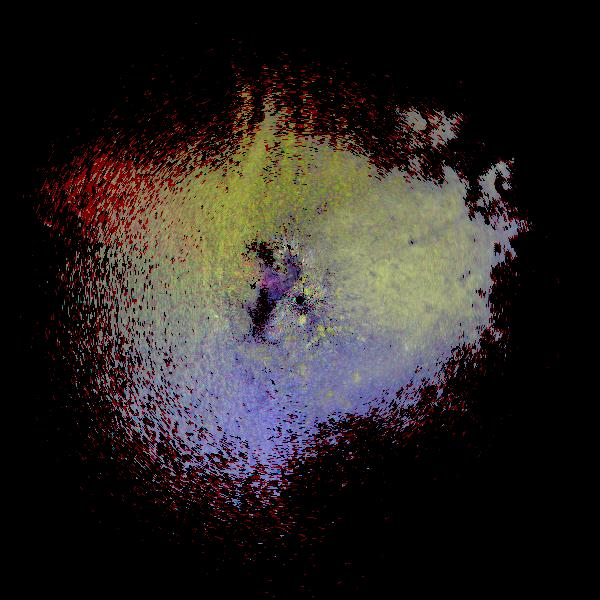roost: (284, 361, 317, 394)
